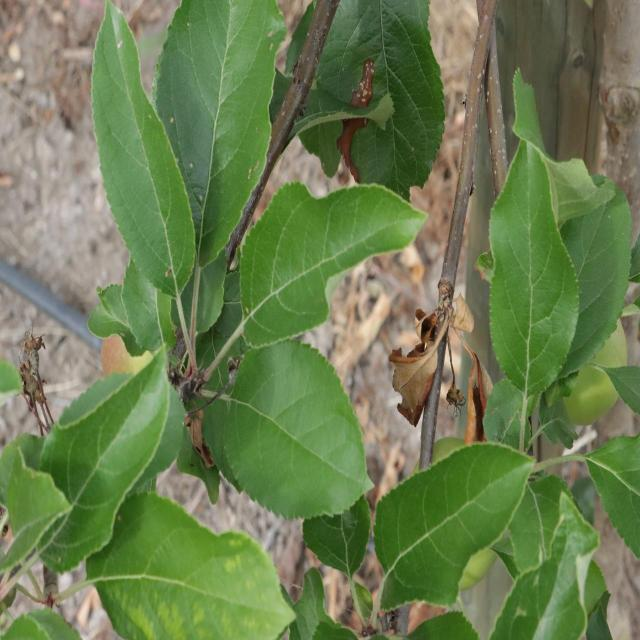-FireBlight-: (388, 300, 489, 428)
